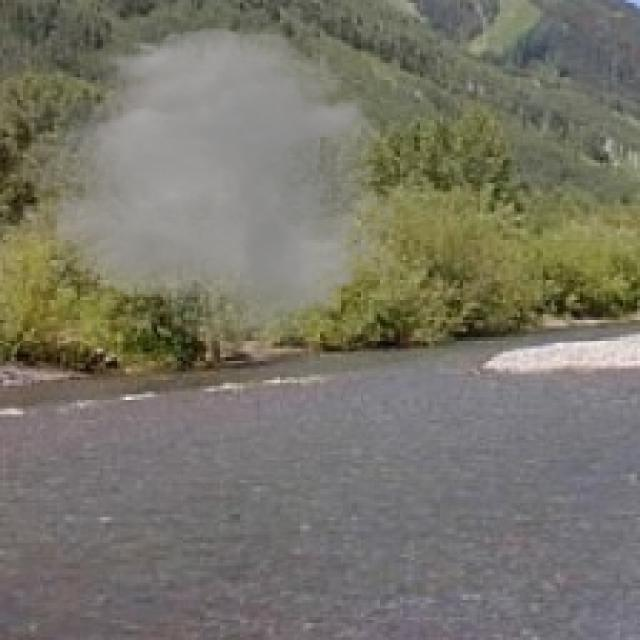Smoke: (0, 20, 415, 366)
